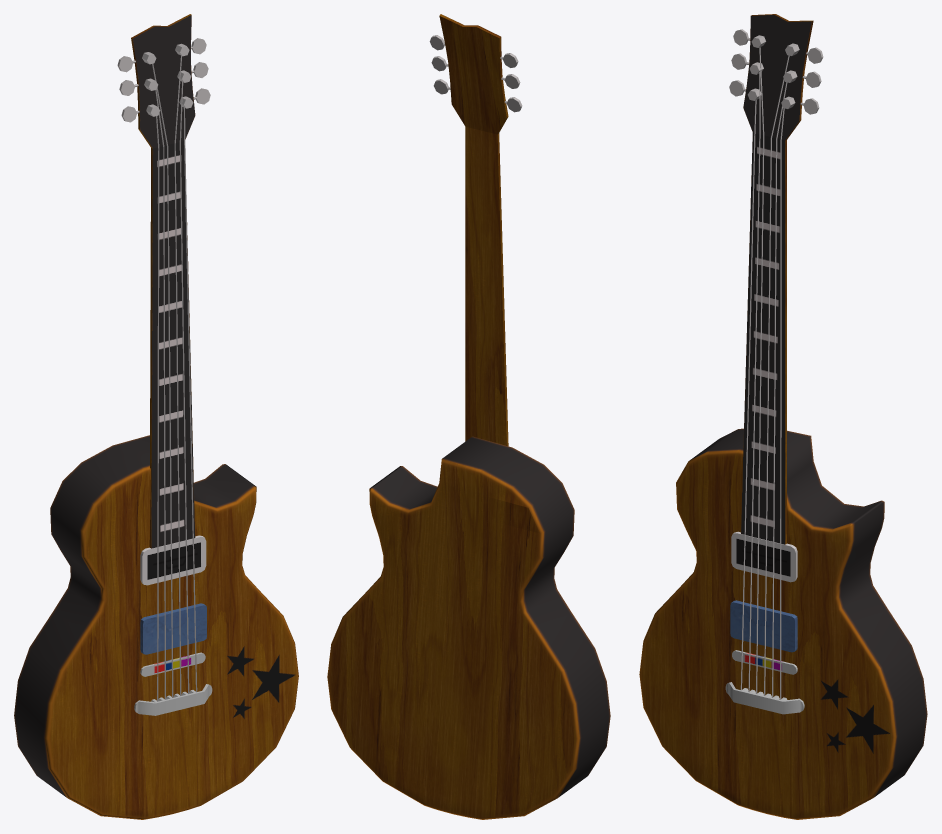
Rendered from Gitar _Mdl.fbx.
3 views of the same model, side by side, from view 1: azimuth 30°, elevation 25°; view 2: azimuth 150°, elevation 25°; view 3: azimuth 330°, elevation 25° (orthographic).
Parts seen in each view (by area): view 1: gitar; view 2: gitar; view 3: gitar.
Boxes of the visible parts, x1=… form: gitar: x1=14, y1=14, x2=298, y2=819; gitar: x1=327, y1=14, x2=610, y2=819; gitar: x1=639, y1=14, x2=927, y2=819.
Size of the model in its own units: 45.65 by 134 by 12.78.
